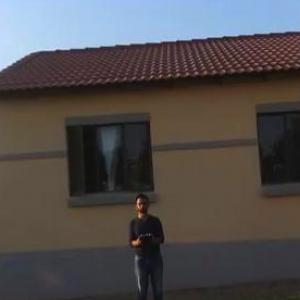follow: (127, 185, 174, 299)
